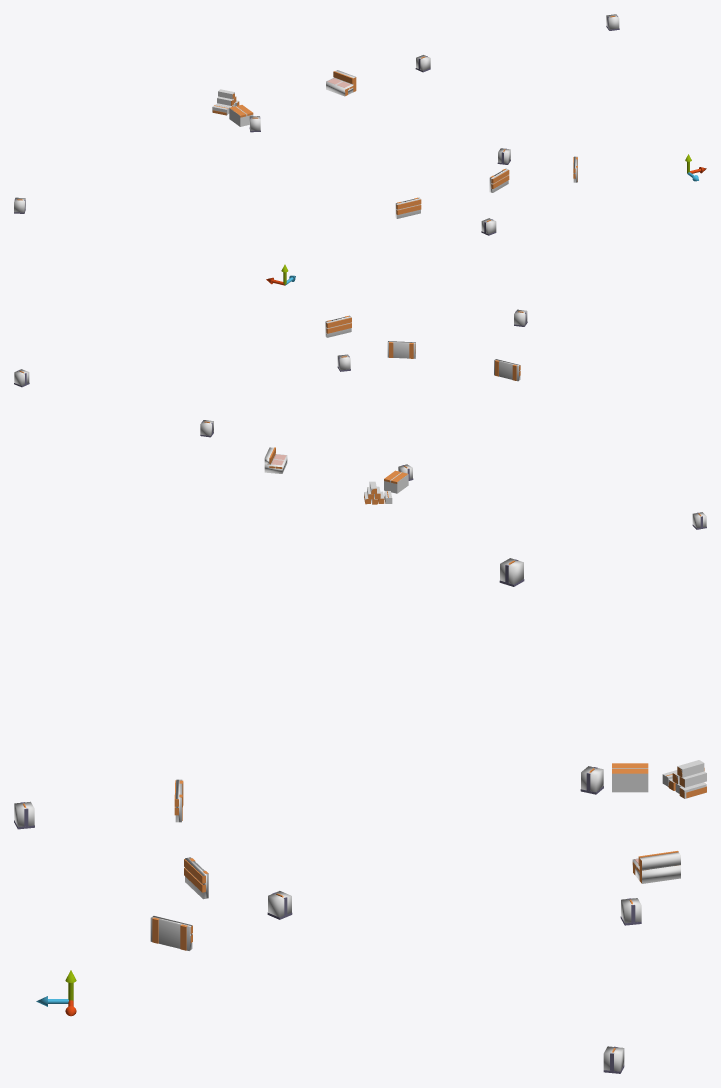
The model's file is sceneryDynamic.glb.
3 renders of one model, top to bottom at view 1: azimuth 30°, elevation 25°; view 2: azimuth 150°, elevation 25°; view 3: azimuth 270°, elevation 25°, orthographic. The views are drawn at different scales.
Visible parts, largest first — view 1: no part large enough to name; view 2: no part large enough to name; view 3: cube.005.
Boxes of the visible parts, bbox=[...] form: cube.005: bbox=[150, 916, 192, 950].
Size of the model in its own units: 57.68 by 2.21 by 33.07.
